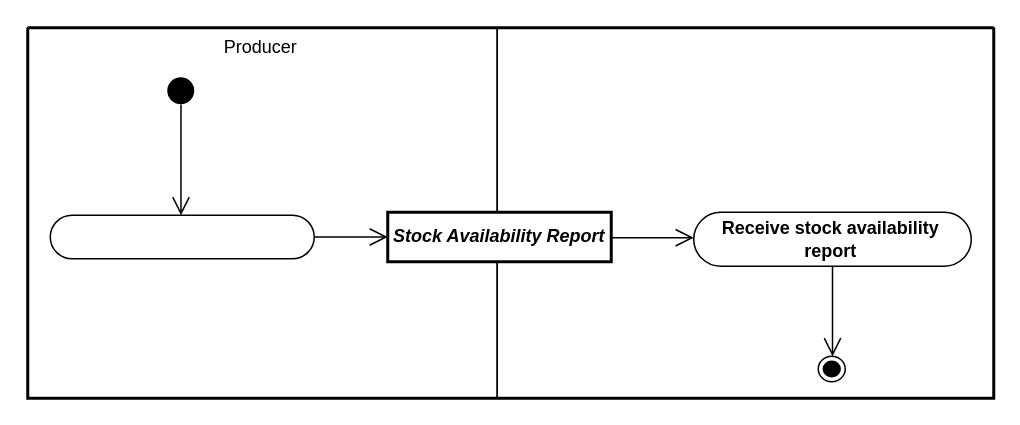
Image size: 1020x425. Some labels were removed from this diagram. The shapes that lost their labels are listed below. From the top down, each one's box as (x1, y1, x2, y2) in pixels, then its label:
(496, 26, 994, 398): Retailer
(49, 214, 314, 259): Send stock availability report
